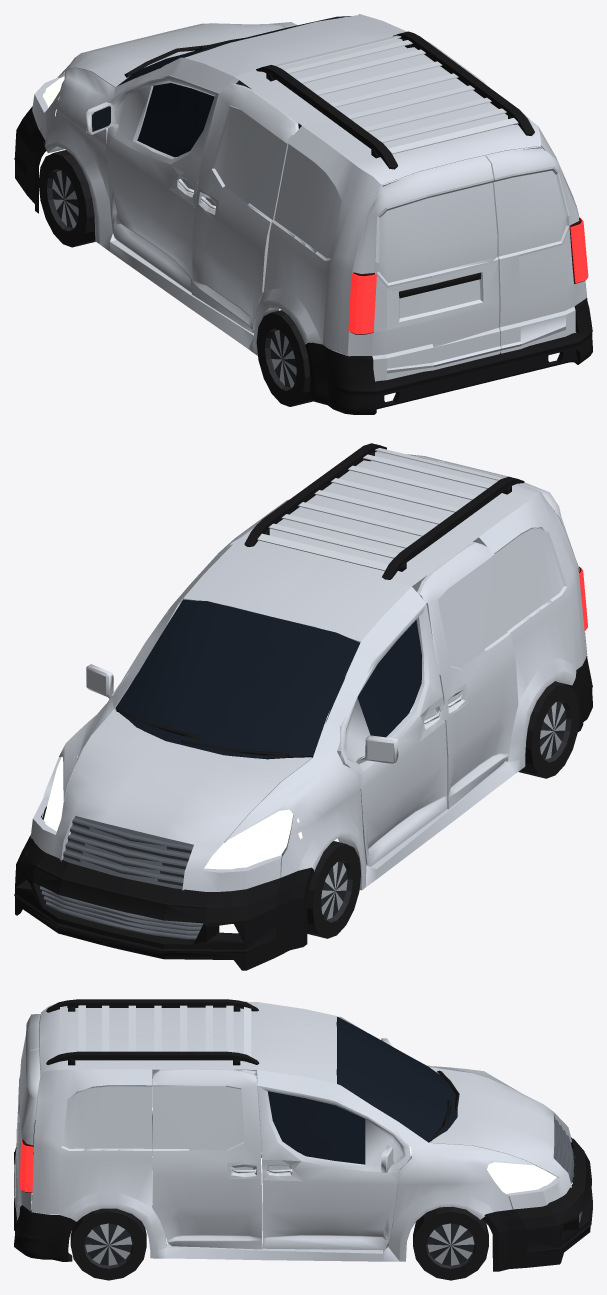
File: car_van01.glb
The picture shows the model from 3 angles, top to bottom: view 1: azimuth 30°, elevation 25°; view 2: azimuth 150°, elevation 25°; view 3: azimuth 270°, elevation 25°; orthographic projection. The views are drawn at different scales.
Parts seen in each view (by area): view 1: body, wheel_f, wheel_r; view 2: body, wheel_f, wheel_r; view 3: body, wheel_f, wheel_r.
Boxes of the visible parts, x1=… form: body: x1=14, y1=14, x2=592, y2=414; wheel_f: x1=38, y1=123, x2=301, y2=247; wheel_r: x1=256, y1=310, x2=330, y2=406; body: x1=14, y1=443, x2=592, y2=970; wheel_f: x1=42, y1=806, x2=361, y2=938; wheel_r: x1=518, y1=681, x2=579, y2=778; body: x1=14, y1=999, x2=592, y2=1271; wheel_f: x1=413, y1=1126, x2=488, y2=1280; wheel_r: x1=70, y1=1208, x2=146, y2=1280.
Size of the model in its own units: 2.13 by 1.7 by 4.4.
2 materials, 1 textured.
